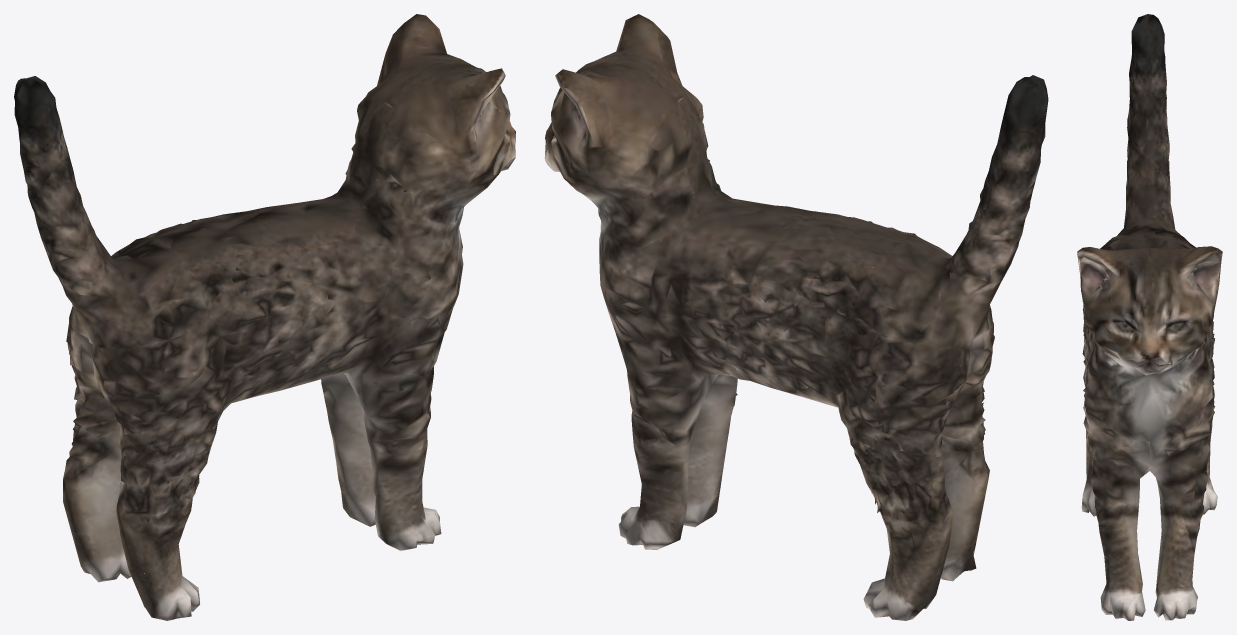
Rendered from MILKBELLY-lo.glb.
The picture shows the model from 3 angles, left to right: view 1: azimuth 30°, elevation 25°; view 2: azimuth 150°, elevation 25°; view 3: azimuth 270°, elevation 25°; orthographic projection. The views are drawn at different scales.
Parts seen in each view (by area): view 1: tripo_node_63c655f1-4519-4e83-af66-48e1420160f9; view 2: tripo_node_63c655f1-4519-4e83-af66-48e1420160f9; view 3: tripo_node_63c655f1-4519-4e83-af66-48e1420160f9.
Part boxes in pixels (x1=…): tripo_node_63c655f1-4519-4e83-af66-48e1420160f9: x1=14, y1=14, x2=515, y2=620; tripo_node_63c655f1-4519-4e83-af66-48e1420160f9: x1=544, y1=14, x2=1048, y2=620; tripo_node_63c655f1-4519-4e83-af66-48e1420160f9: x1=1077, y1=14, x2=1222, y2=620.
Size of the model in its own units: 0.9622 by 0.9968 by 0.2936.
1 material, 1 textured.
